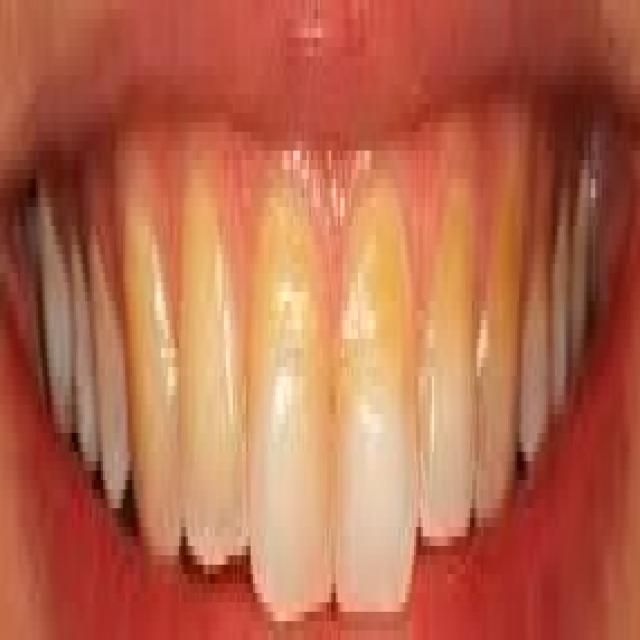1st Molar: (36, 182, 70, 425), (570, 162, 593, 344)
1st Premolar: (89, 235, 128, 513), (521, 235, 549, 464)
2nd Premolar: (71, 237, 100, 477), (549, 188, 571, 412)
Canine: (121, 207, 177, 558), (474, 169, 522, 529)
Central Incisor: (249, 178, 335, 623), (335, 169, 418, 620)
Lateral Incisor: (177, 160, 248, 574), (418, 172, 477, 552)
